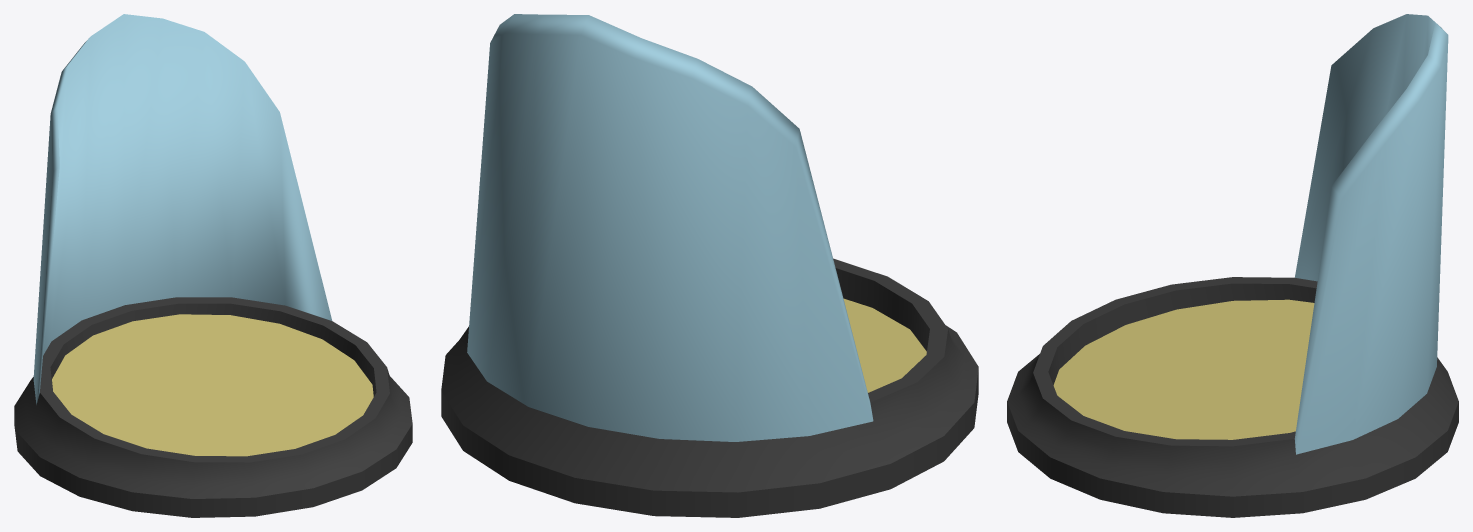
Rendered from Dark_Hologram Stand.FBX.
The picture shows the model from 3 angles, left to right: view 1: azimuth 30°, elevation 25°; view 2: azimuth 150°, elevation 25°; view 3: azimuth 270°, elevation 25°; orthographic projection. The views are drawn at different scales.
Visible parts, largest first — view 1: Hologram Base, Back Plane; view 2: Back Plane, Hologram Base; view 3: Hologram Base, Back Plane.
Part boxes in pixels (x1,y1,x2,y2): Hologram Base: (14, 297, 412, 517); Back Plane: (33, 14, 332, 404); Back Plane: (467, 14, 873, 441); Hologram Base: (441, 258, 978, 517); Hologram Base: (1007, 277, 1458, 517); Back Plane: (1294, 14, 1448, 454).
Bounding box in the file's own units: 3 × 3 × 2.93.
